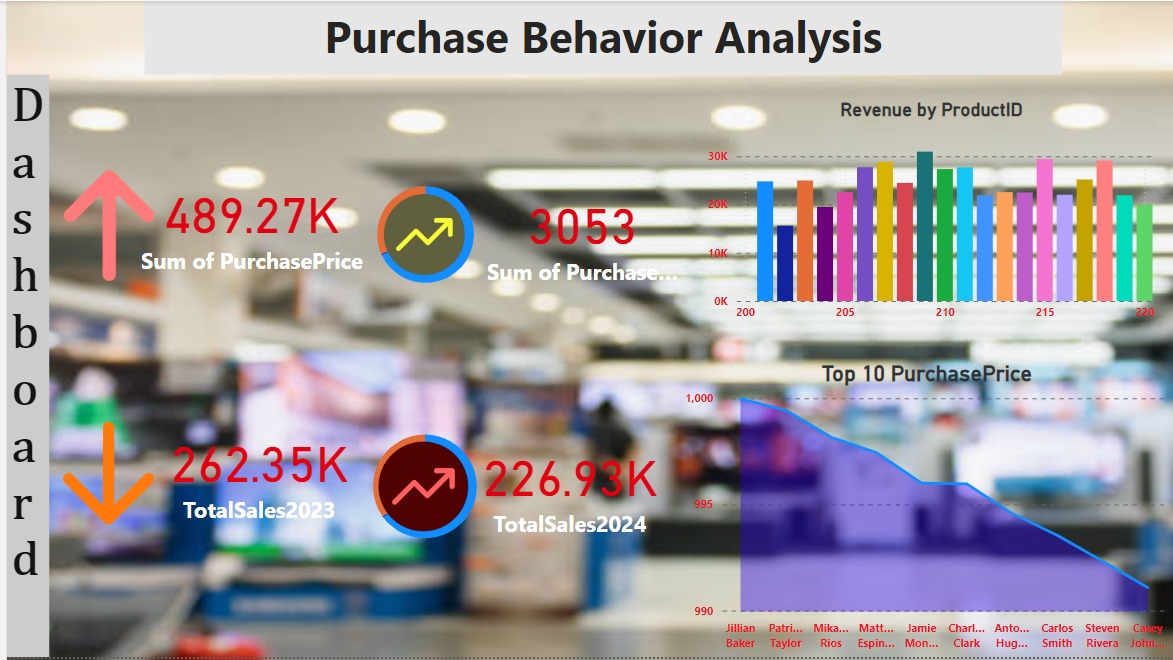

The page's visual inventory and layout, read from the dashboard file:
{"tool":"powerbi","page":{"name":"Page 1","canvas":[1280,720],"ordinal":0},"visuals":[{"type":"stackedAreaChart","title":"Top 10 PurchasePrice","fields":{"Category":["powerbi22 customers.customername"],"Y":["powerbi22 purchase.PurchasePrice"]},"box":[739.6,395.2,540.7,325.2],"z":0},{"type":"columnChart","title":"Revenue by ProductID","fields":{"Category":["powerbi22 purchase.ProductID"],"Series":["powerbi22 purchase.ProductID"],"Y":["powerbi22 purchase.PurchasePrice"]},"box":[764.3,107,500.9,252.5],"z":1000},{"type":"card","fields":{"Values":["powerbi22 purchase.PurchasePrice"]},"box":[137.2,185.2,263.5,119.4],"z":2000},{"type":"card","fields":{"Values":["powerbi22 purchase.TotalSales2023"]},"box":[137.2,456.9,279.9,122.1],"z":3000},{"type":"card","fields":{"Values":["powerbi22 purchase.TotalSales2024"]},"box":[496.7,456.9,242.9,152.3],"z":4000},{"type":"card","fields":{"Values":["powerbi22 purchase.PurchaseQuantity"]},"box":[513.2,185.2,237.4,142.7],"z":5000},{"type":"textbox","box":[150.9,0,1007.2,81],"z":5001},{"type":"textbox","box":[0,81,46.7,639.5],"z":5004},{"type":"image","box":[46.7,124.9,131.7,242.9],"z":5005},{"type":"image","box":[31.6,367.8,160.5,300.5],"z":5006},{"type":"donutChart","fields":{"Y":["powerbi22 purchase.PurchasePrice","powerbi22 purchase.PurchaseQuantity","powerbi22 purchase.TotalSales2023"]},"box":[352.7,456.9,212.7,152.3],"z":5007},{"type":"donutChart","fields":{"Y":["powerbi22 purchase.PurchasePrice","powerbi22 purchase.PurchaseQuantity","powerbi22 purchase.TotalSales2024"]},"box":[370.5,185.2,178.4,142.7],"z":5008},{"type":"image","box":[408.9,207.2,98.8,98.8],"z":5009},{"type":"image","box":[400.7,478.9,112.5,108.4],"z":5010}]}

Visuals, with their boxes in screenshot pixels (x1, y1, x2, y2), scaled from the page's 1280x720 canvas onto the 1173x660 screenshot:
"Top 10 PurchasePrice" stackedAreaChart: bbox=(678, 362, 1172, 659)
"Revenue by ProductID" columnChart: bbox=(700, 98, 1159, 330)
card - powerbi22 purchase.PurchasePrice: bbox=(126, 170, 367, 279)
card - powerbi22 purchase.TotalSales2023: bbox=(126, 419, 382, 531)
card - powerbi22 purchase.TotalSales2024: bbox=(455, 419, 678, 558)
card - powerbi22 purchase.PurchaseQuantity: bbox=(470, 170, 688, 301)
textbox: bbox=(138, 0, 1061, 74)
textbox: bbox=(0, 74, 43, 659)
image: bbox=(43, 114, 163, 337)
image: bbox=(29, 337, 176, 613)
donutChart - powerbi22 purchase.PurchasePrice x powerbi22 purchase.PurchaseQuantity: bbox=(323, 419, 518, 558)
donutChart - powerbi22 purchase.PurchasePrice x powerbi22 purchase.PurchaseQuantity: bbox=(340, 170, 503, 301)
image: bbox=(375, 190, 465, 280)
image: bbox=(367, 439, 470, 538)
